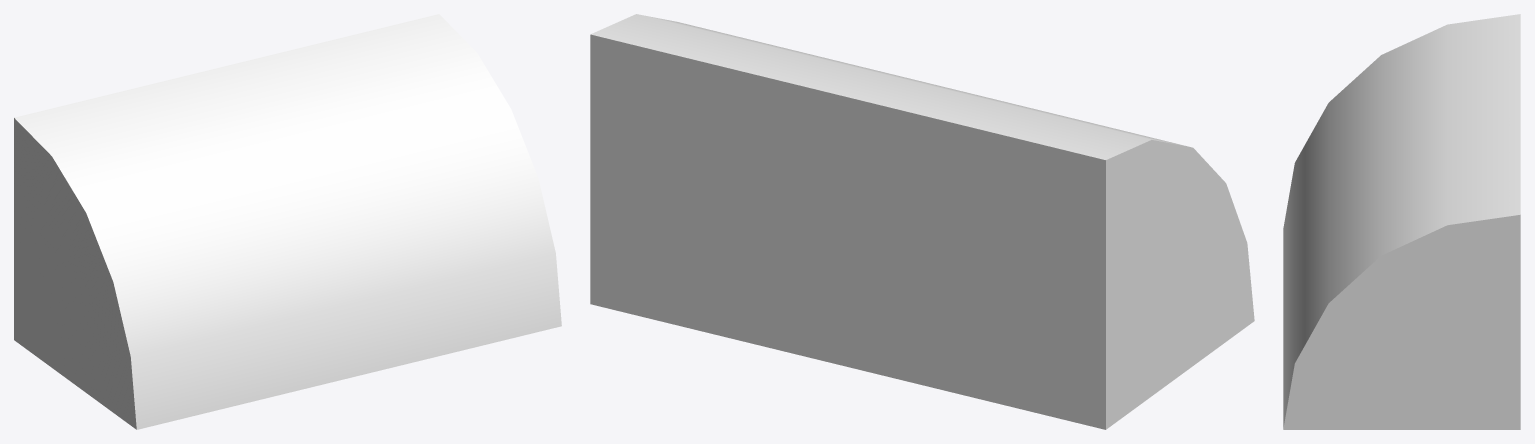
File: halfpipe_out.glb
3 views of the same model, side by side, from view 1: azimuth 30°, elevation 25°; view 2: azimuth 150°, elevation 25°; view 3: azimuth 270°, elevation 25° (orthographic). The views are drawn at different scales.
Visible parts, largest first — view 1: halfpipe_out; view 2: halfpipe_out; view 3: halfpipe_out.
Part boxes in pixels (bbox=[...]): halfpipe_out: bbox=[14, 14, 561, 429]; halfpipe_out: bbox=[590, 14, 1254, 429]; halfpipe_out: bbox=[1283, 14, 1520, 429].
Size of the model in its own units: 1 by 0.5 by 0.5.
1 material, 1 textured.
